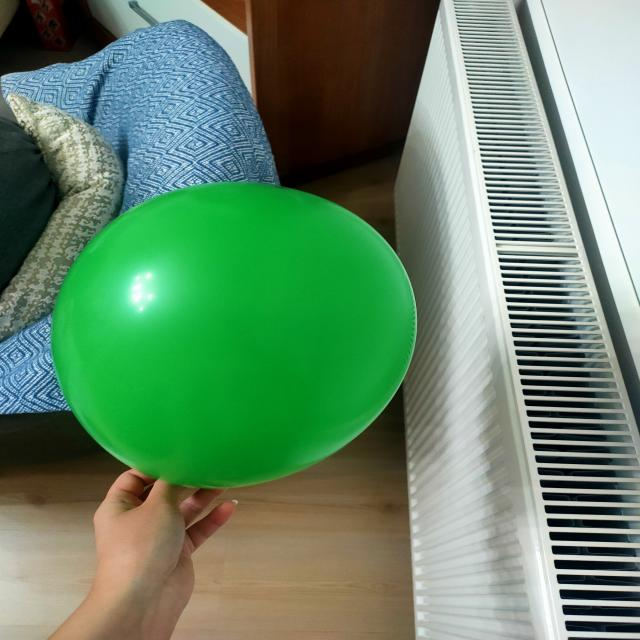green: (52, 184, 421, 491)
